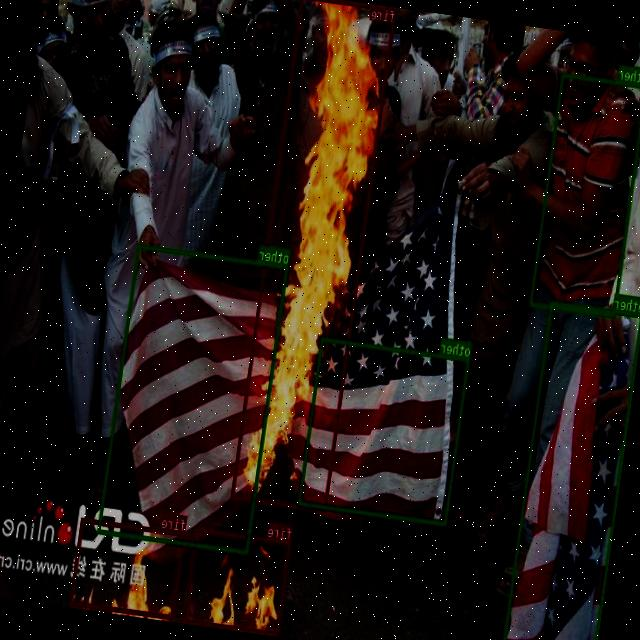fire: (231, 0, 398, 512), (70, 516, 186, 620), (184, 528, 292, 636)
